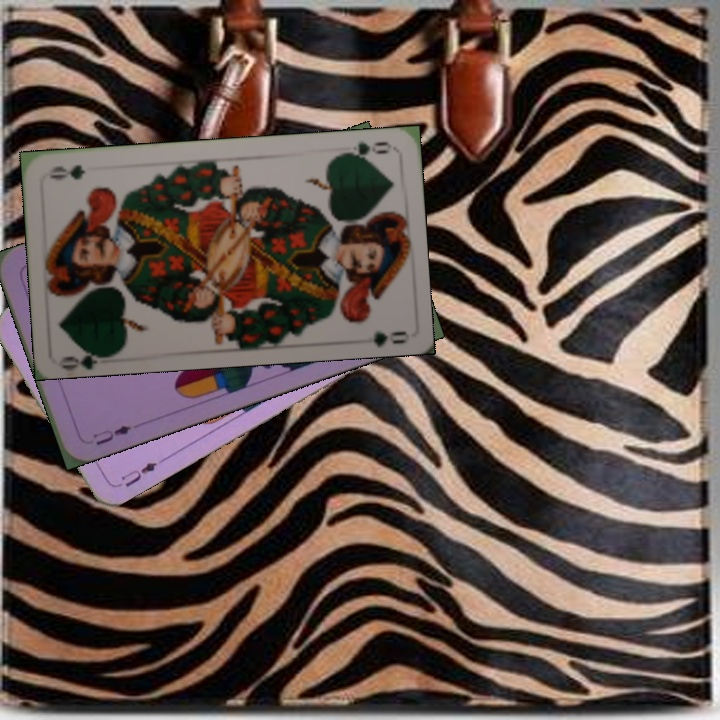EU: (110, 458, 159, 491), (89, 421, 134, 448)
GO: (59, 341, 118, 369), (336, 137, 394, 163)
